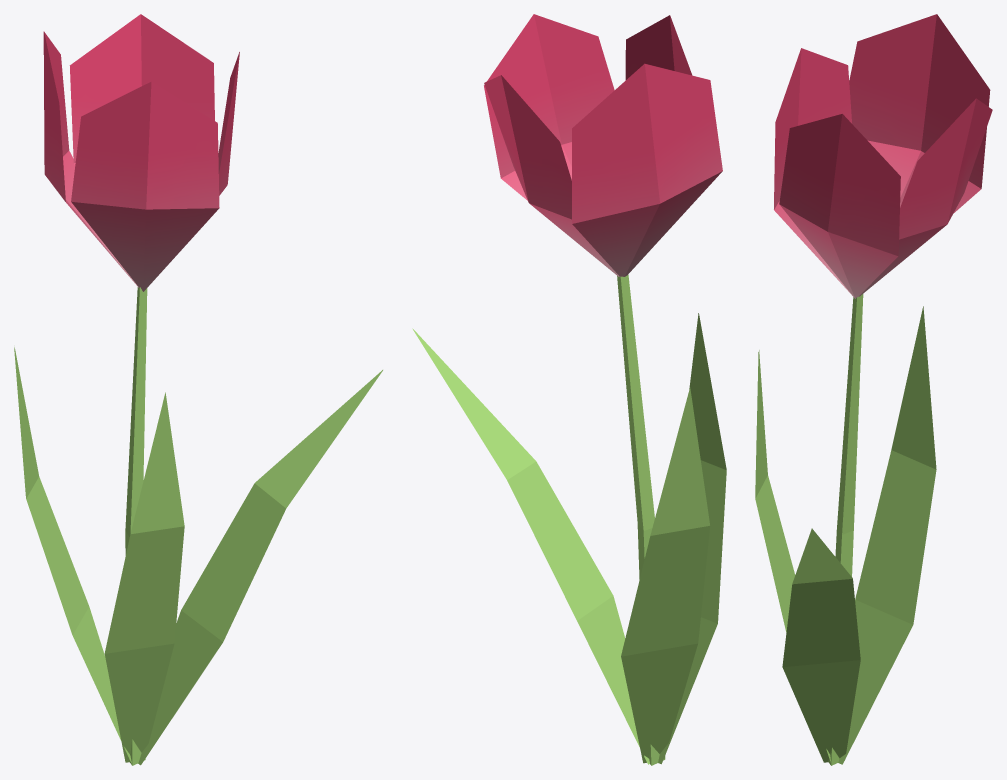
The model's file is Flower_f_TwoS_09.fbx.
The picture shows the model from 3 angles, left to right: view 1: azimuth 30°, elevation 25°; view 2: azimuth 150°, elevation 25°; view 3: azimuth 270°, elevation 25°; orthographic projection. The views are drawn at different scales.
Parts seen in each view (by area): view 1: Flower_f_TwoS_09; view 2: Flower_f_TwoS_09; view 3: Flower_f_TwoS_09.
Boxes of the visible parts, x1,y1,x2,y2 form: Flower_f_TwoS_09: [14, 14, 382, 765]; Flower_f_TwoS_09: [412, 14, 726, 765]; Flower_f_TwoS_09: [755, 14, 992, 765].
Bounding box in the file's own units: 22.41 × 47.23 × 13.98.
